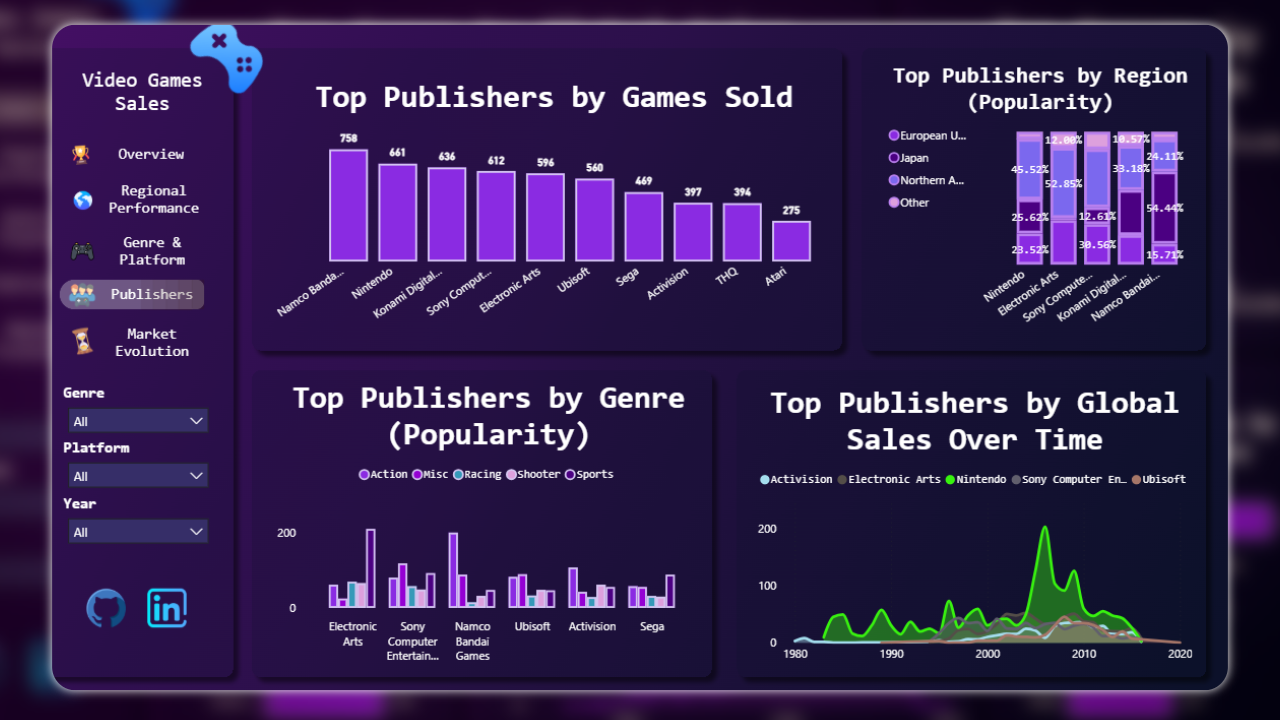

This screenshot's page, from the dashboard's own definition file:
{"tool":"powerbi","page":{"name":"Publishers","canvas":[1280,720],"ordinal":3},"visuals":[{"type":"clusteredColumnChart","title":"Top Publishers by Games Sold","fields":{"Category":["vgsales.Publisher"],"Y":["vgsales.No. of Games"]},"box":[233.5,43.6,625.3,295.7],"z":0},{"type":"shape","box":[10.3,25.8,188.4,94.2],"z":1000},{"type":"image","box":[11,109.1,54.2,64.5],"z":2000},{"type":"shape","box":[33.5,259.4,161.3,61.9],"z":3000},{"type":"image","box":[10.3,260.6,59.4,60.6],"z":4000},{"type":"shape","box":[32.9,109.1,161.3,60.6],"z":5000},{"type":"shape","box":[0,259.7,185.5,62.2],"z":6000},{"type":"shape","box":[141.3,260.1,43.9,61.9],"z":7000},{"type":"shape","box":[127.4,260.1,44.7,63.3],"z":8000},{"type":"shape","box":[114.3,260.1,43.6,63.3],"z":9000},{"type":"shape","box":[100.1,260.1,44.7,63.3],"z":10000},{"type":"shape","box":[87,260.1,43.6,63.3],"z":11000},{"type":"image","box":[14.2,165.2,51.6,50.3],"z":12000},{"type":"shape","box":[33.5,149.7,165.2,78.7],"z":13000},{"type":"shape","box":[33.5,205.2,161.3,77.4],"z":14000},{"type":"shape","box":[33.5,301.9,161.3,80],"z":15000},{"type":"image","box":[11.6,215.5,55.5,59.4],"z":16000},{"type":"image","box":[9,309.7,61.9,61.9],"z":17000},{"type":"slicer","title":"Genre","fields":{"Values":["vgsales.Genre"]},"box":[14.2,386.7,165.7,58.4],"z":18000},{"type":"slicer","title":"Platform","fields":{"Values":["vgsales.Platform"]},"box":[14.2,445.1,165.7,60],"z":19000},{"type":"slicer","title":"Year","fields":{"Values":["vgsales.Year"]},"box":[14.2,505.1,165.7,60],"z":20000},{"type":"image","box":[88.4,591.4,84,72],"z":21000},{"type":"image","box":[25.1,591.4,80.8,72],"z":22000},{"type":"actionButton","box":[16.8,165.2,165.2,50.3],"z":23000},{"type":"actionButton","box":[14.2,219.4,165.2,50.3],"z":24000},{"type":"actionButton","box":[16.8,113.5,163.9,50.3],"z":25000},{"type":"actionButton","box":[14.2,317.4,165.2,50.3],"z":26000},{"type":"hundredPercentStackedColumnChart","title":"Top Publishers by Region (Popularity)","fields":{"Category":["vgsales.Publisher"],"Y":["Sum(vgsales.European Union Saels)","Sum(vgsales.Japan Sales)","Sum(vgsales.Northern America Sales)","Sum(vgsales.Other Sales)"]},"box":[890.4,26.2,355.7,317.5],"z":27000},{"type":"lineClusteredColumnComboChart","title":"Top Publishers by Genre (Popularity)","fields":{"Category":["vgsales.Publisher"],"Y":["vgsales.No. of Games"],"Series":["vgsales.Genre"]},"box":[233.6,366.2,484.5,337.8],"z":28000},{"type":"areaChart","title":"Top Publishers by Global Sales Over Time","fields":{"Y":["vgsales.Total Global Sales"],"Series":["vgsales.Publisher"],"Category":["vgsales.Year"]},"box":[749.7,372.1,496.5,332.8],"z":29000}]}

Visuals, with their boxes in screenshot pixels (x1, y1, x2, y2), scaled from the page's 1280x720 canvas onto the 1280x720 screenshot:
"Top Publishers by Games Sold" clusteredColumnChart: x1=234 y1=44 x2=859 y2=339
shape: x1=10 y1=26 x2=199 y2=120
image: x1=11 y1=109 x2=65 y2=174
shape: x1=34 y1=259 x2=195 y2=321
image: x1=10 y1=261 x2=70 y2=321
shape: x1=33 y1=109 x2=194 y2=170
shape: x1=0 y1=260 x2=186 y2=322
shape: x1=141 y1=260 x2=185 y2=322
shape: x1=127 y1=260 x2=172 y2=323
shape: x1=114 y1=260 x2=158 y2=323
shape: x1=100 y1=260 x2=145 y2=323
shape: x1=87 y1=260 x2=131 y2=323
image: x1=14 y1=165 x2=66 y2=216
shape: x1=34 y1=150 x2=199 y2=228
shape: x1=34 y1=205 x2=195 y2=283
shape: x1=34 y1=302 x2=195 y2=382
image: x1=12 y1=216 x2=67 y2=275
image: x1=9 y1=310 x2=71 y2=372
"Genre" slicer: x1=14 y1=387 x2=180 y2=445
"Platform" slicer: x1=14 y1=445 x2=180 y2=505
"Year" slicer: x1=14 y1=505 x2=180 y2=565
image: x1=88 y1=591 x2=172 y2=663
image: x1=25 y1=591 x2=106 y2=663
actionButton: x1=17 y1=165 x2=182 y2=216
actionButton: x1=14 y1=219 x2=179 y2=270
actionButton: x1=17 y1=114 x2=181 y2=164
actionButton: x1=14 y1=317 x2=179 y2=368
"Top Publishers by Region (Popularity)" hundredPercentStackedColumnChart: x1=890 y1=26 x2=1246 y2=344
"Top Publishers by Genre (Popularity)" lineClusteredColumnComboChart: x1=234 y1=366 x2=718 y2=704
"Top Publishers by Global Sales Over Time" areaChart: x1=750 y1=372 x2=1246 y2=705
